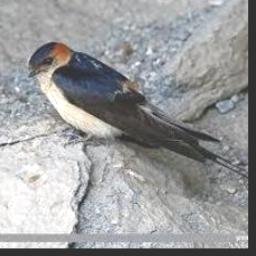Swallow: (28, 42, 248, 178)
